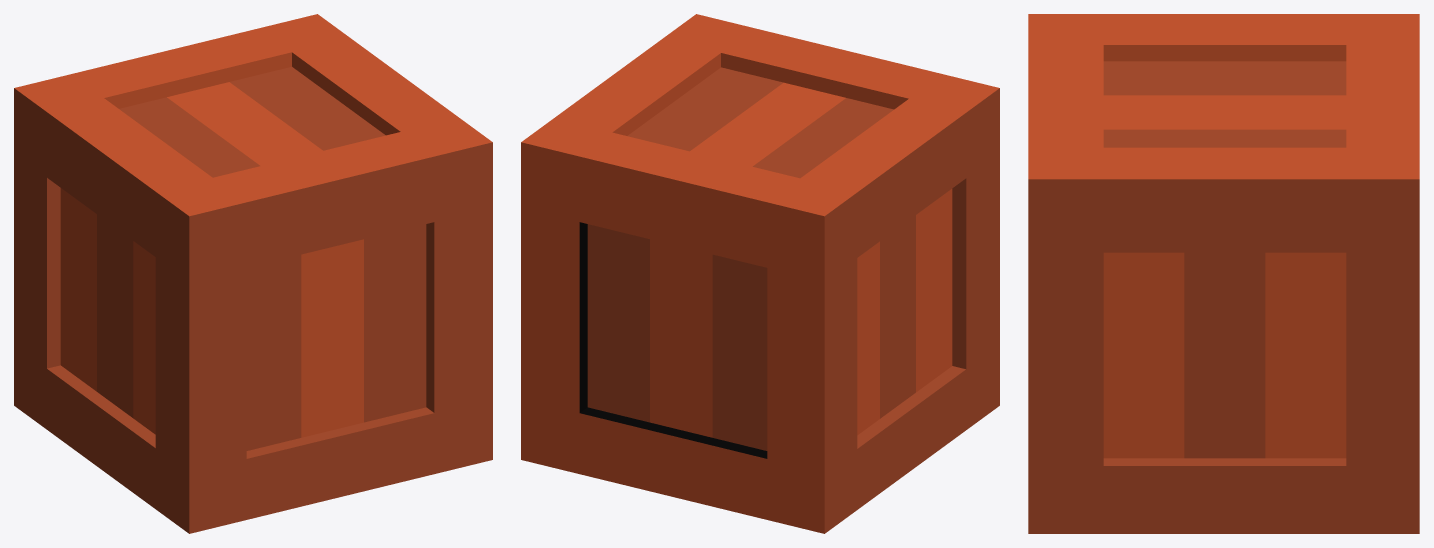
File: cajaMonedas.fbx
3 views of the same model, side by side, from view 1: azimuth 30°, elevation 25°; view 2: azimuth 150°, elevation 25°; view 3: azimuth 270°, elevation 25° (orthographic). The views are drawn at different scales.
Visible parts, largest first — view 1: Box001; view 2: Box001; view 3: Box001.
Part boxes in pixels (box(x1,y1,x2,y2)): Box001: box(14, 14, 492, 533); Box001: box(521, 14, 999, 533); Box001: box(1028, 14, 1419, 533).
Bounding box in the file's own units: 44 × 44 × 44.
